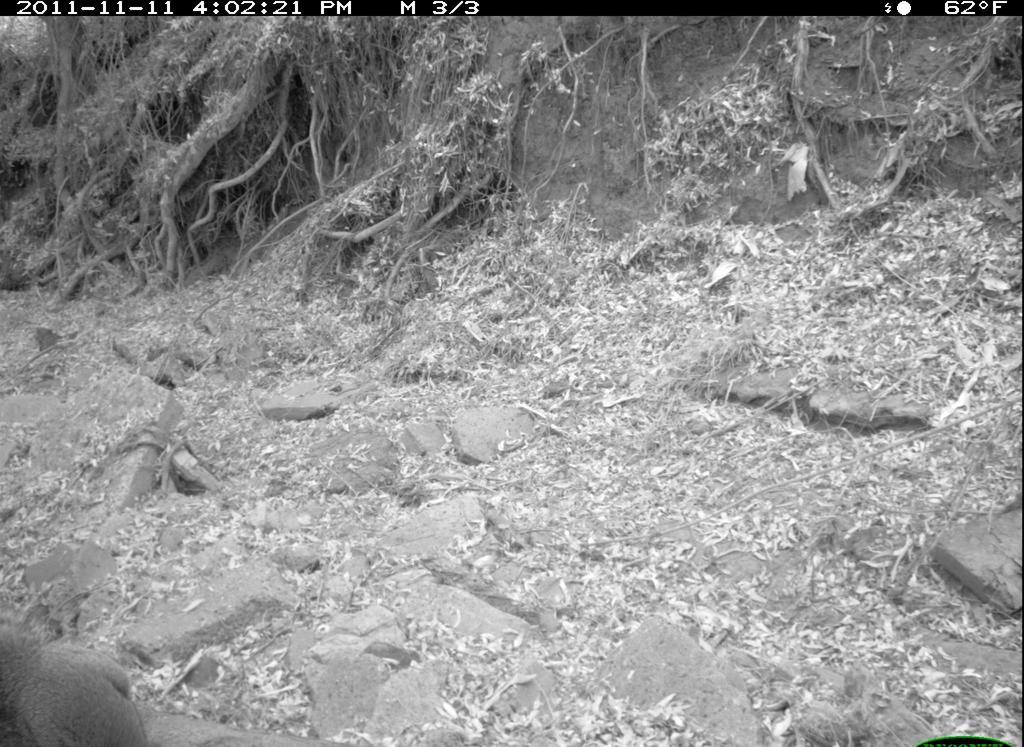squirrel: (6, 607, 155, 747)
